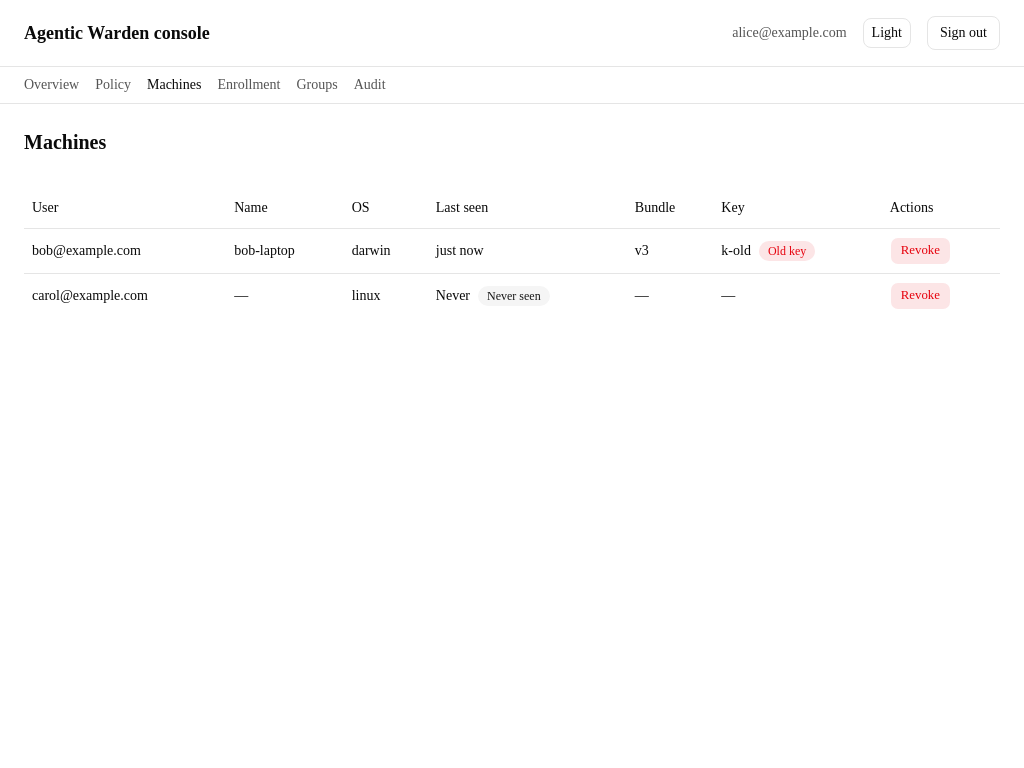
Scenario: a machine without a name is confirmed by its id
The width and height of the screenshot is (1024, 768).
What coordinates should you click on to do the following:
click the button "Revoke" in the row of "carol@example.com"
I would click on:
 (920, 296)
Its box is 890,282 -> 951,310.
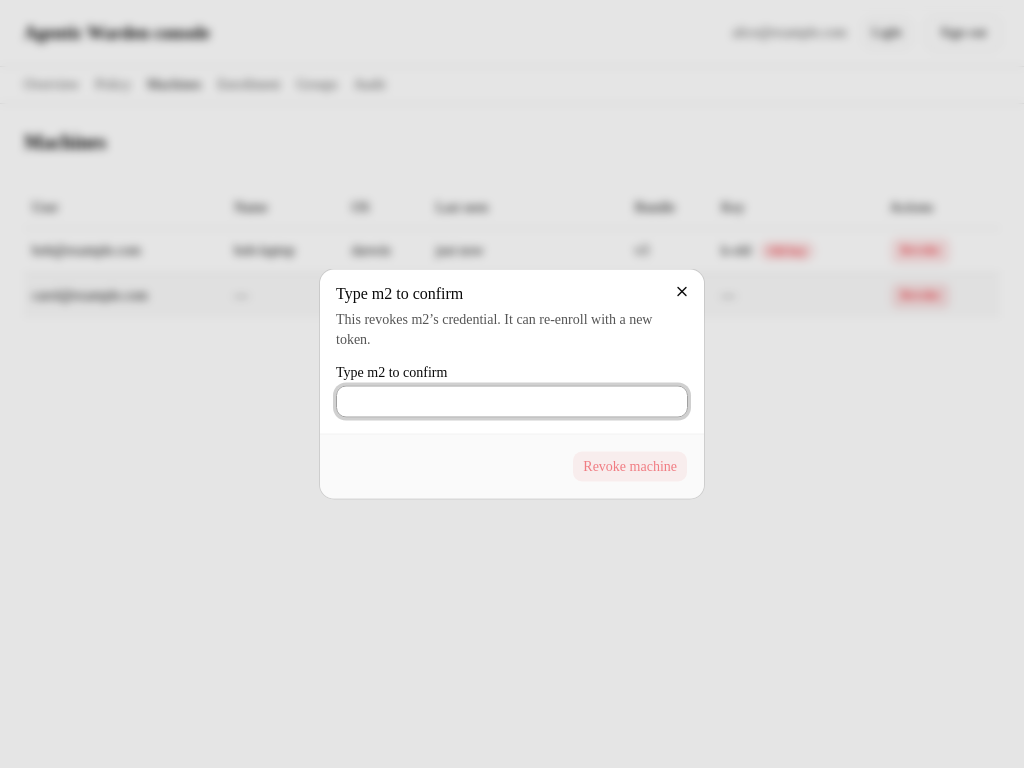
Check: the heading "Type m2 to confirm" is shown, box 336,284 -> 463,302
Check: the field labelled "Type m2 to confirm" is shown, box 336,386 -> 688,418
